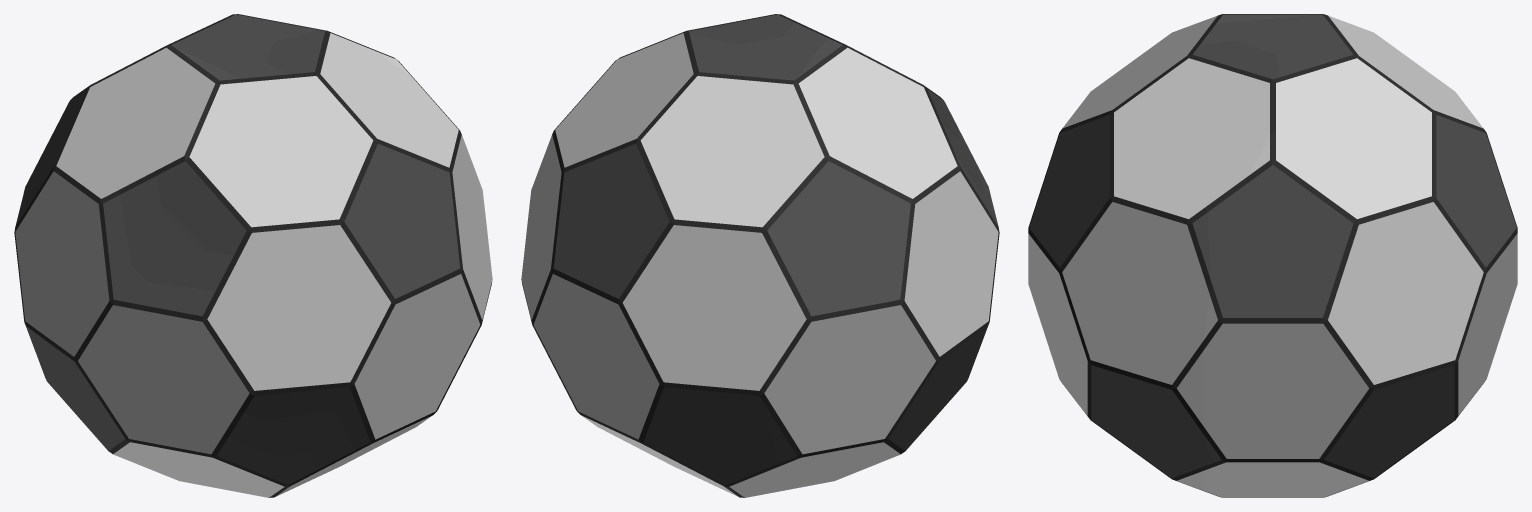
Rendered from football.fbx.
3 views of the same model, side by side, from view 1: azimuth 30°, elevation 25°; view 2: azimuth 150°, elevation 25°; view 3: azimuth 270°, elevation 25° (orthographic). The views are drawn at different scales.
Visible parts, largest first — view 1: Icosphere; view 2: Icosphere; view 3: Icosphere.
Boxes of the visible parts, x1,y1,x2,y2 form: Icosphere: (14,14,492,497); Icosphere: (521,14,999,497); Icosphere: (1028,14,1517,497).
Size of the model in its own units: 167 by 162 by 169.
